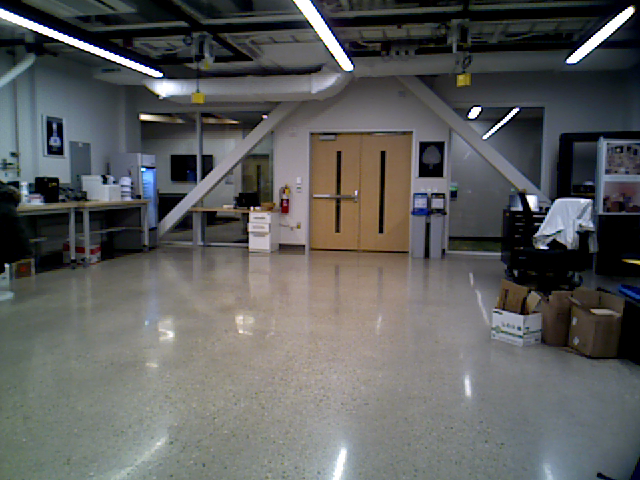painting1: (414, 139, 446, 180)
painting2: (40, 115, 67, 157)
